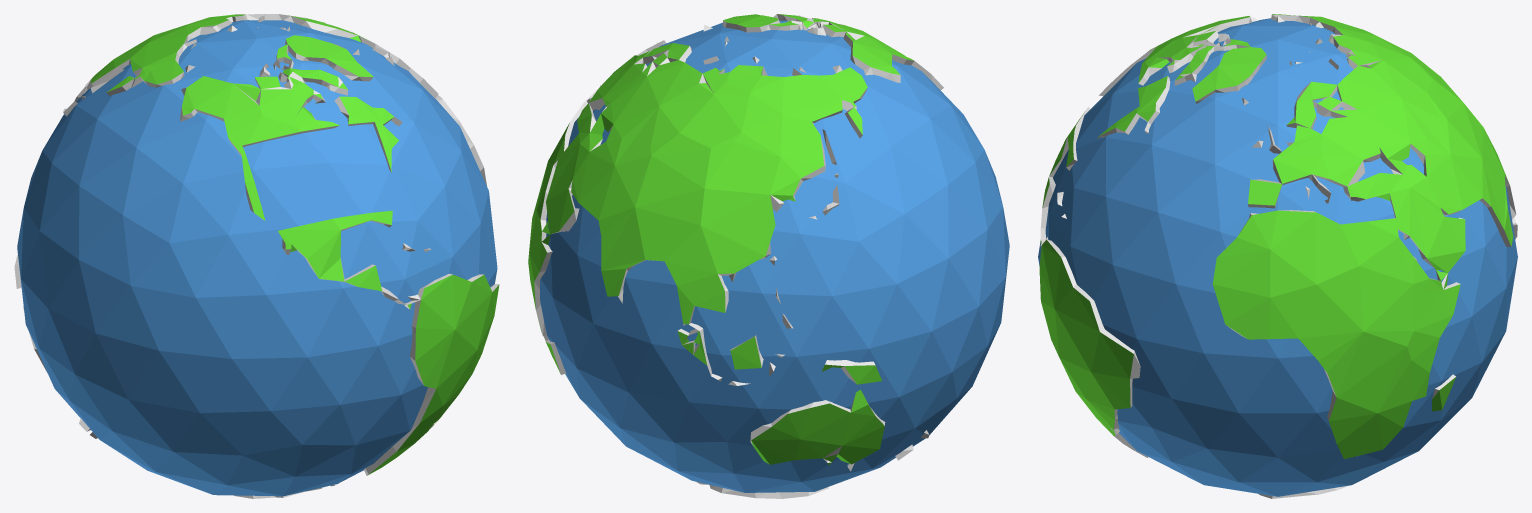
The model's file is earth_3.glb.
3 renders of one model, left to right at view 1: azimuth 30°, elevation 25°; view 2: azimuth 150°, elevation 25°; view 3: azimuth 270°, elevation 25°, orthographic.
Parts seen in each view (by area): view 1: Icosphere.001, Sphere.002; view 2: Icosphere.001, Sphere.002; view 3: Icosphere.001, Sphere.002.
Part boxes in pixels (x1,y1,x2,y2): Icosphere.001: (17, 20, 497, 496); Sphere.002: (14, 14, 499, 498); Icosphere.001: (540, 20, 1009, 492); Sphere.002: (528, 14, 943, 498); Icosphere.001: (1038, 18, 1517, 496); Sphere.002: (1039, 14, 1517, 498).
Bounding box in the file's own units: 2.08 × 2.09 × 2.07.
